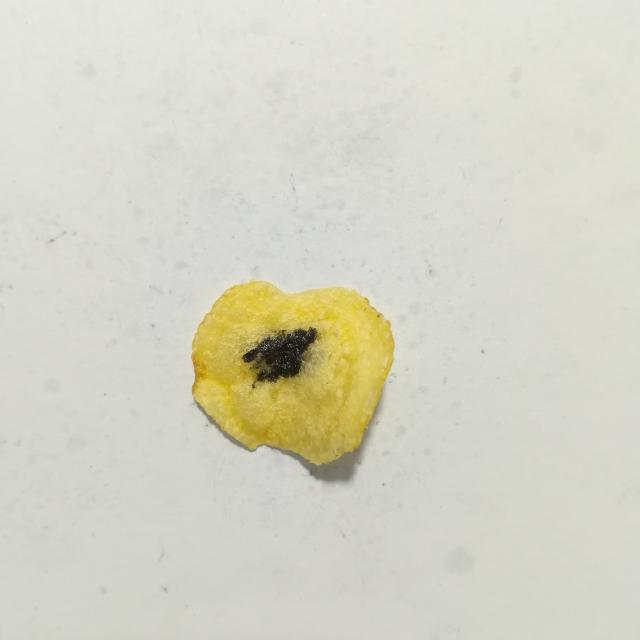chip: (192, 282, 394, 464)
damaged: (242, 328, 317, 382)
semi-damaged: (240, 329, 283, 355), (299, 338, 327, 374), (251, 384, 255, 389)
